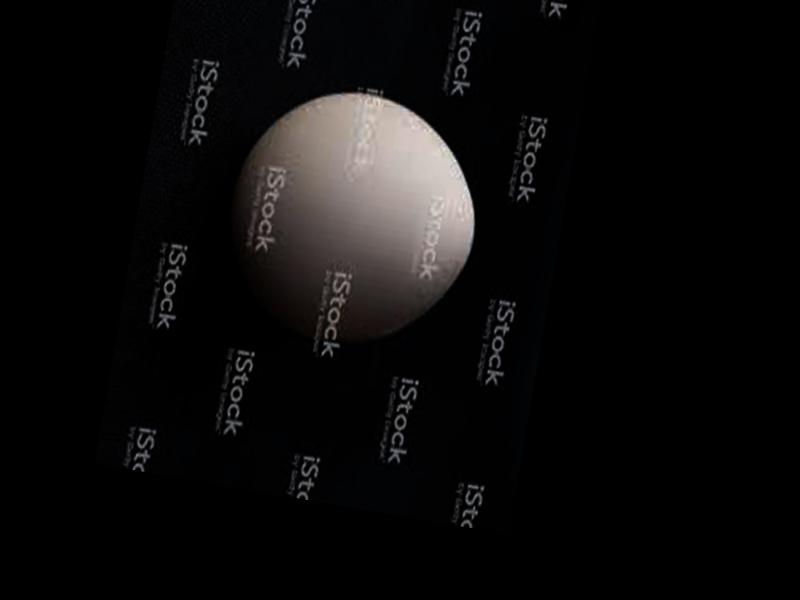Eggs: (209, 74, 494, 363)
